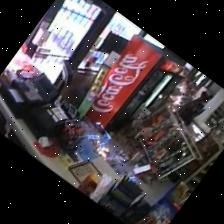person: (178, 91, 208, 125)
